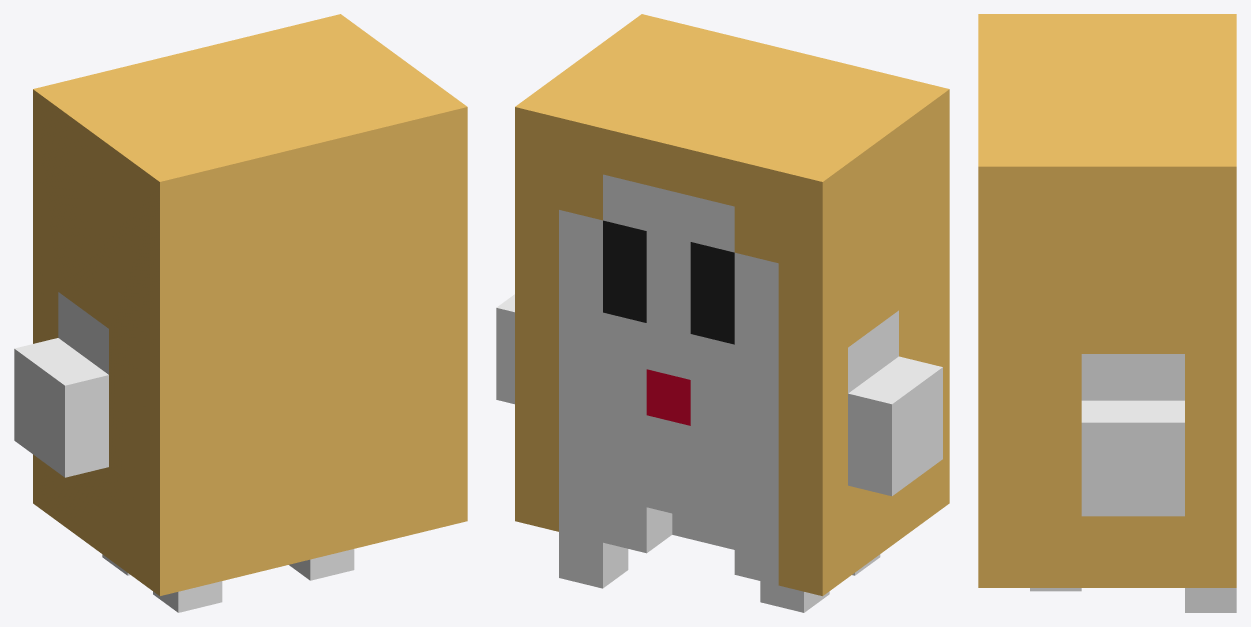
Rendered from havva.fbx.
3 renders of one model, left to right at view 1: azimuth 30°, elevation 25°; view 2: azimuth 150°, elevation 25°; view 3: azimuth 270°, elevation 25°, orthographic.
Parts seen in each view (by area): view 1: havva; view 2: havva; view 3: havva.
Part boxes in pixels (left/top/right/bottom): havva: left=14, top=14, right=467, bottom=612; havva: left=496, top=14, right=949, bottom=612; havva: left=978, top=14, right=1236, bottom=612.
Bounding box in the file's own units: 90 × 100 × 50.
Materials: 1 (1 with a texture image).
